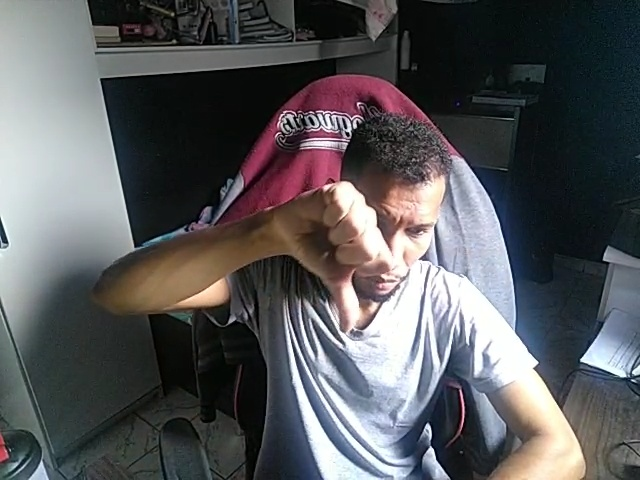não: (279, 175, 398, 334)
